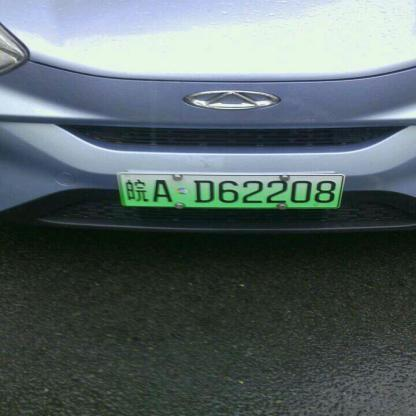lp: (118, 173, 342, 207)
